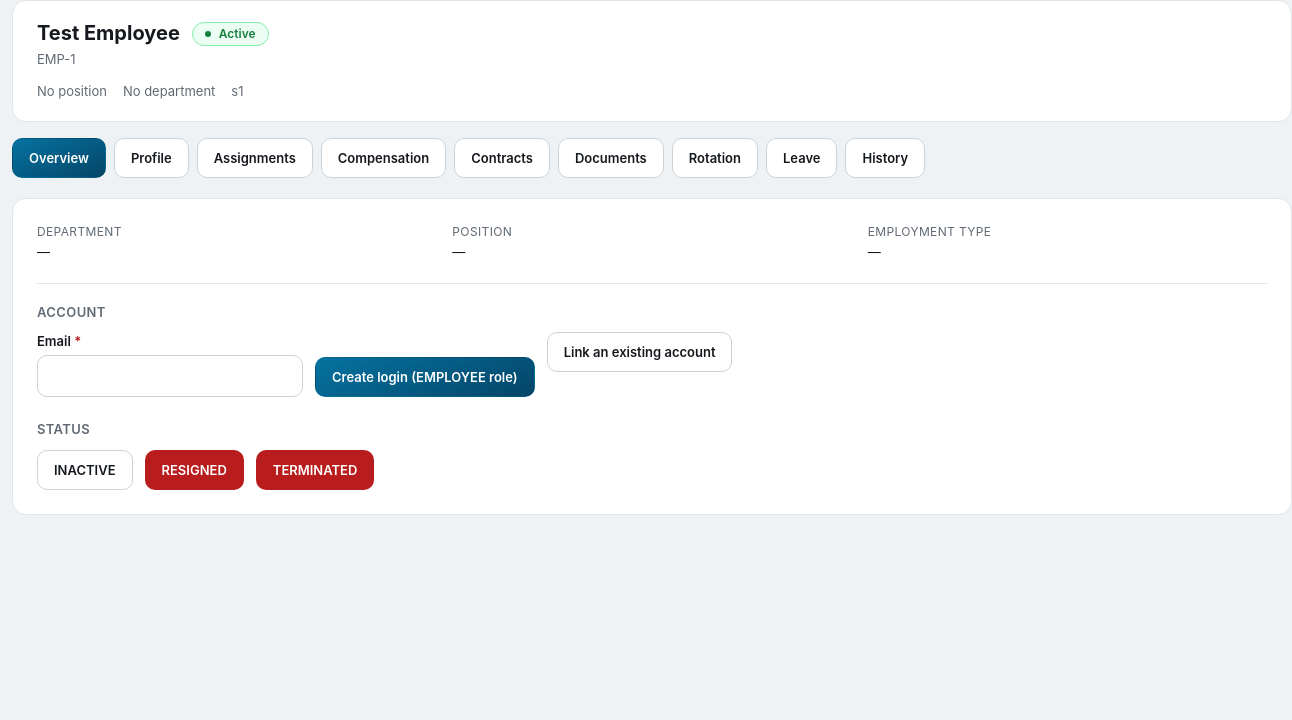
Scenario: Contracts tab — required draft metadata › a DRAFT renders controls for the original terms that finalization freezes
Expected: the heading "Test Employee" is shown, [37,21,180,46]
Click the button "Contracts" at (502, 158), box [454,138,550,178]
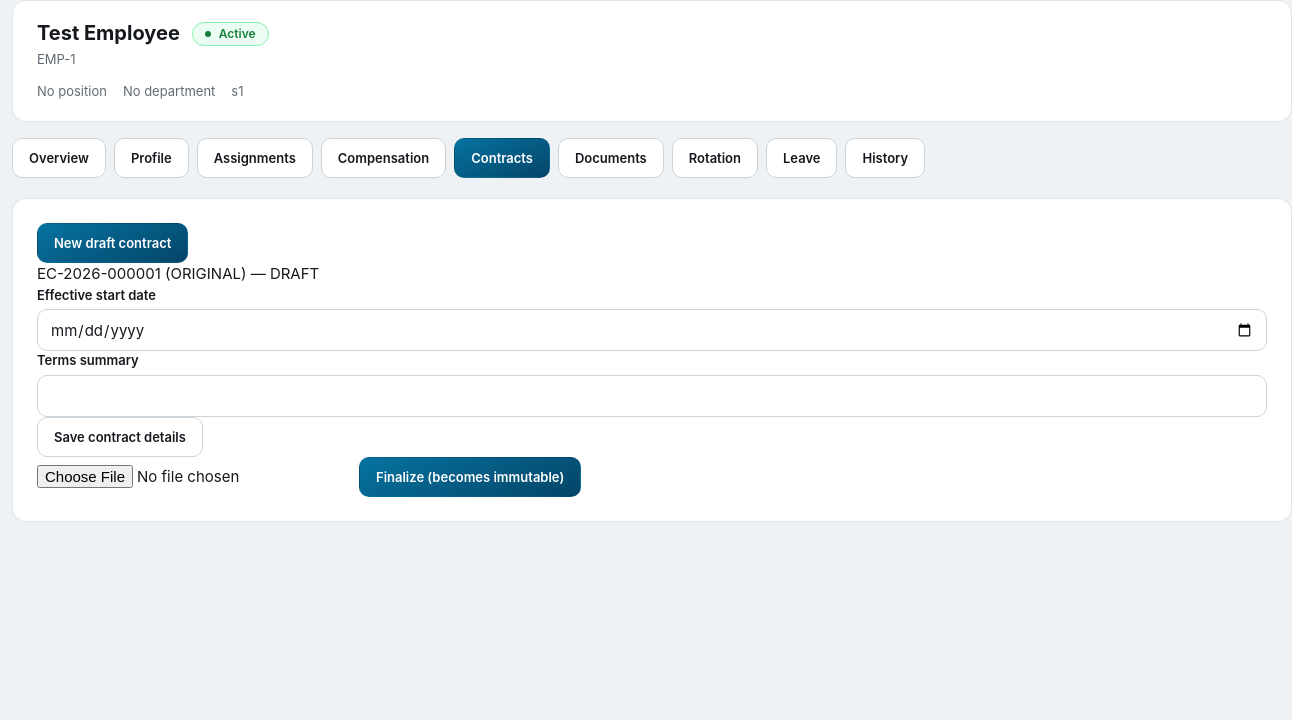
Expected: the text "EC-2026-000001 (ORIGINAL) — DRAFT" is shown, [37,264,319,283]
Expected: the date field labelled "Effective start date" is shown, [37,309,1267,351]
Expected: the field labelled "Terms summary" is shown, [37,374,1267,416]
